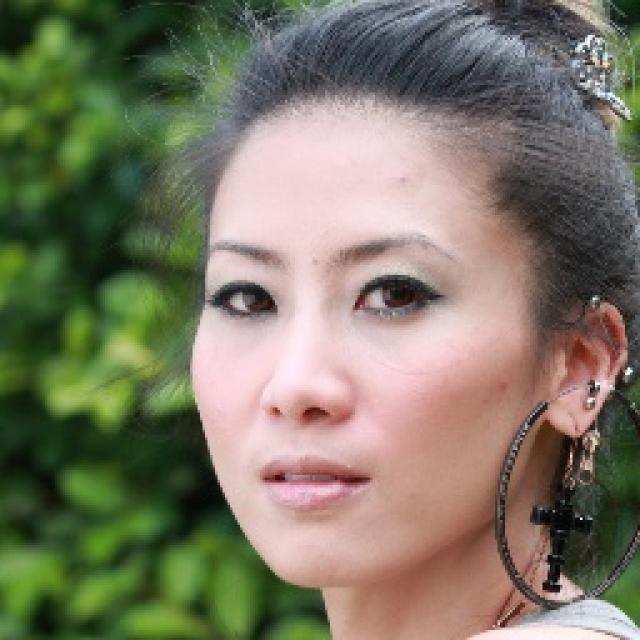earlobe: (544, 298, 630, 439)
